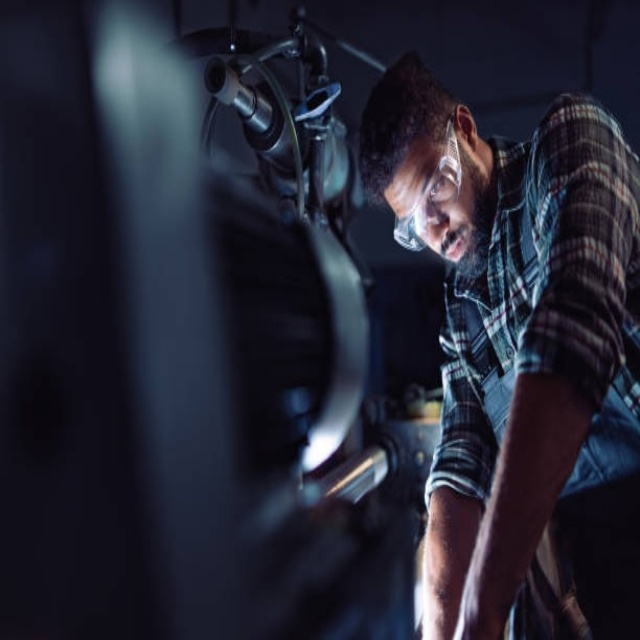Gafas: (394, 115, 461, 251)
Sin_mascara: (440, 218, 474, 282)
